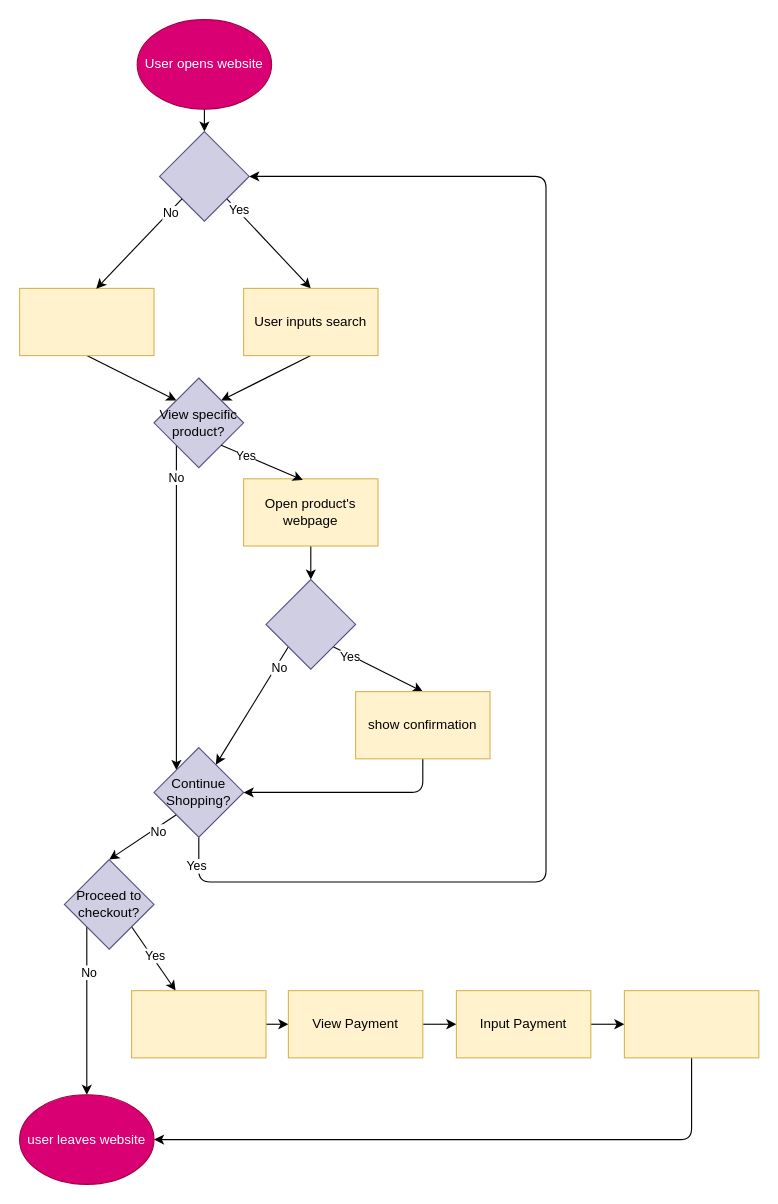
The diagram is 778 pixels wide and 1204 high, and some of its shapes have lost their labels. Here are the shapes that lost their labels. From the top down, the centre of each, then its label:
At point (203, 175): "Search for product?".
At point (86, 321): "User browses the products".
At point (310, 623): "Add to cart?".
At point (198, 1024): "View cart".
At point (691, 1024): "Show order confirmation & send confirmation email".
